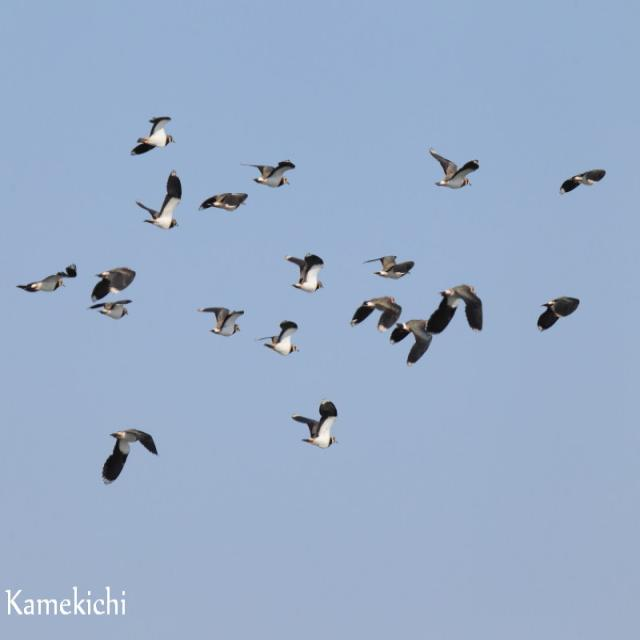bird: (134, 170, 188, 234), (104, 430, 159, 486), (437, 281, 488, 338), (385, 317, 442, 363), (290, 401, 340, 450), (349, 294, 405, 336), (427, 149, 483, 189), (15, 264, 76, 297), (536, 293, 582, 336), (254, 316, 300, 358), (91, 266, 138, 306), (131, 116, 177, 156), (285, 254, 328, 295), (364, 252, 416, 284), (241, 159, 295, 189), (200, 305, 247, 336), (200, 189, 250, 218), (558, 168, 606, 198), (94, 302, 131, 322)
